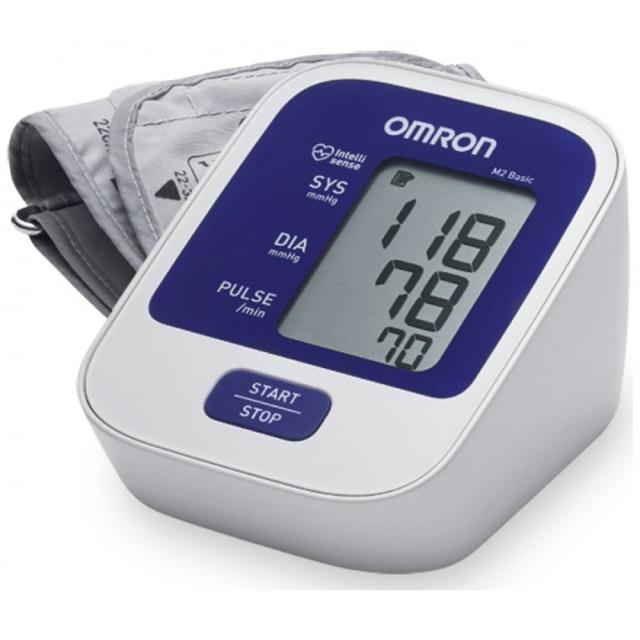dia: (345, 242, 479, 342)
pul: (364, 320, 440, 376)
ssd: (274, 114, 545, 416)
sys: (364, 180, 516, 282)
